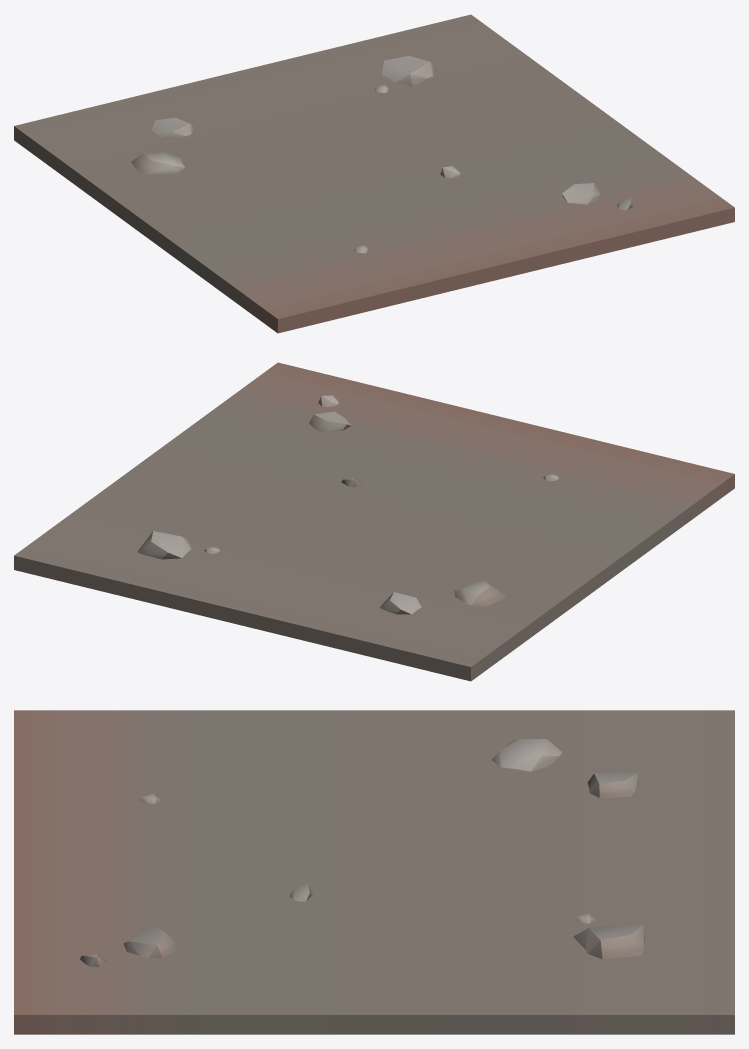
File: floor_dirt_large.glb
3 renders of one model, top to bottom at view 1: azimuth 30°, elevation 25°; view 2: azimuth 150°, elevation 25°; view 3: azimuth 270°, elevation 25°, orthographic. The views are drawn at different scales.
Visible parts, largest first — view 1: floor_dirt_large; view 2: floor_dirt_large; view 3: floor_dirt_large.
Boxes of the visible parts, bbox=[...] form: floor_dirt_large: bbox=[14, 14, 734, 333]; floor_dirt_large: bbox=[14, 362, 734, 681]; floor_dirt_large: bbox=[14, 710, 734, 1034].
Size of the model in its own units: 4 by 0.2085 by 4.
Materials: 1 (1 with a texture image).
